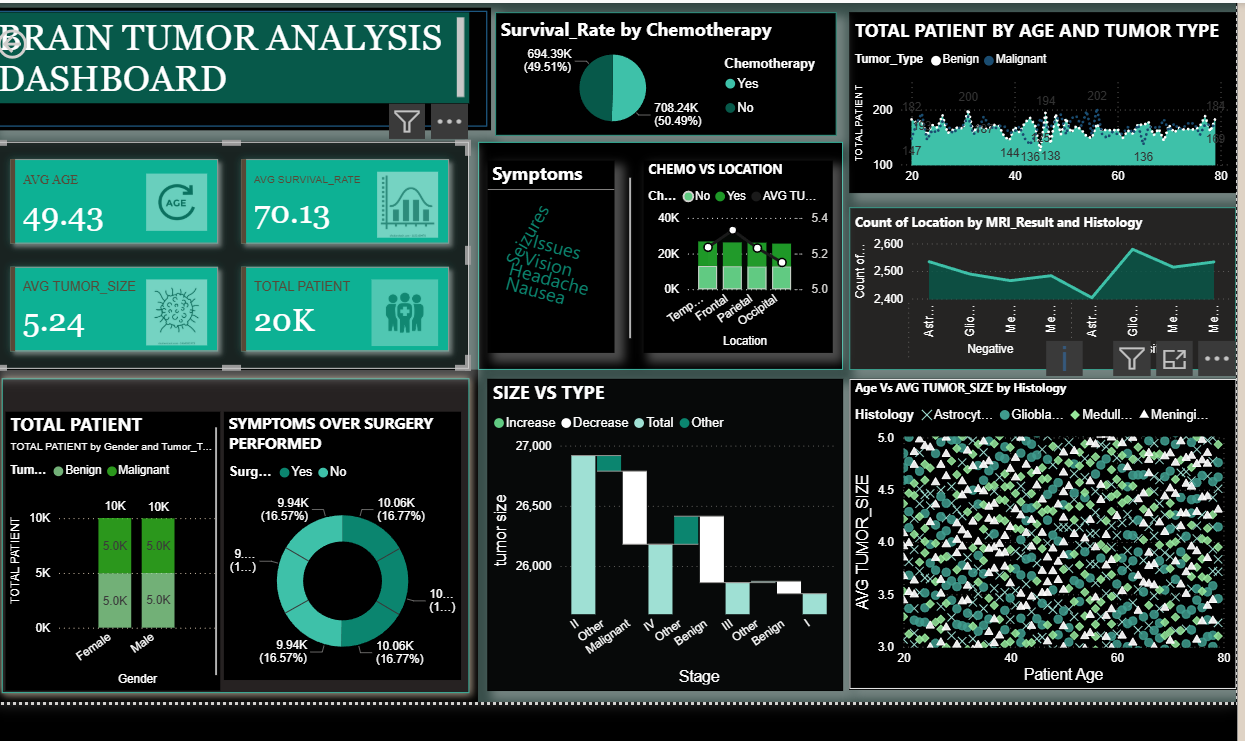

The page's visual inventory and layout, read from the dashboard file:
{"tool":"powerbi","page":{"name":"Page 1","canvas":[1280,720],"ordinal":0},"visuals":[{"type":"shape","box":[0,5,512.9,126.2],"z":0},{"type":"textbox","box":[0,10,490.6,93.6],"z":1000},{"type":"cardVisual","fields":{"Data":["brain_tumor_dataset.AVG AGE","brain_tumor_dataset.AVG SURVIVAL_RATE","brain_tumor_dataset.AVG TUMOR_SIZE","brain_tumor_dataset.TOTAL PATIENT"]},"box":[0,143,489.9,234.5],"z":2000},{"type":"shape","box":[0,377.5,499.6,342.1],"z":3000},{"type":"columnChart","title":"TOTAL PATIENT ","fields":{"Category":["brain_tumor_dataset.Gender"],"Series":["brain_tumor_dataset.Tumor_Type"],"Y":["brain_tumor_dataset.TOTAL PATIENT"]},"box":[12.2,420.9,220.9,287],"z":4000},{"type":"shape","box":[221.7,436.9,16.1,255.4],"z":5000},{"type":"actionButton","box":[0,22.6,99.1,40],"z":6000},{"type":"donutChart","title":"SYMPTOMS OVER SURGERY PERFORMED","fields":{"Category":["brain_tumor_dataset.Surgery_Performed"],"Y":["CountNonNull(brain_tumor_dataset.Symptom_1)","CountNonNull(brain_tumor_dataset.Symptom_2)","CountNonNull(brain_tumor_dataset.Symptom_3)"]},"box":[237.7,420.9,244.2,276.3],"z":7000},{"type":"lineChart","title":"TOTAL PATIENT BY AGE AND TUMOR TYPE","fields":{"Category":["brain_tumor_dataset.Age"],"Y":["brain_tumor_dataset.TOTAL PATIENT"],"Series":["brain_tumor_dataset.Tumor_Type"]},"box":[881.9,10.4,398.3,186.1],"z":8000},{"type":"waterfallChart","title":"SIZE VS TYPE","fields":{"Category":["brain_tumor_dataset.Stage"],"Y":["Sum(brain_tumor_dataset.Tumor_Size)"],"Breakdown":["brain_tumor_dataset.Tumor_Type"]},"box":[509.2,387.1,366.2,321.3],"z":9000},{"type":"areaChart","fields":{"Category":["brain_tumor_dataset.MRI_Result","brain_tumor_dataset.Histology"],"Y":["CountNonNull(brain_tumor_dataset.Location)"]},"box":[881.9,210.5,398.3,167],"z":10000},{"type":"pieChart","title":"Survival_Rate by Chemotherapy","fields":{"Y":["Sum(brain_tumor_dataset.Survival_Rate)"],"Category":["brain_tumor_dataset.Chemotherapy"]},"box":[518,10,351.4,127],"z":11000},{"type":"scatterChart","title":" Age Vs AVG TUMOR_SIZE by Histology","fields":{"Category":["brain_tumor_dataset.Tumor_Size"],"Series":["brain_tumor_dataset.Histology"],"X":["Sum(brain_tumor_dataset.Age)"],"Y":["brain_tumor_dataset.AVG TUMOR_SIZE"]},"box":[881.9,387.1,398.4,319.7],"z":12000},{"type":"shape","box":[499,142.6,375.7,234.8],"z":13000},{"type":"WordCloud1447959067750","title":"Symptoms","fields":{"Values":["CountNonNull(brain_tumor_dataset.Patient_ID)"],"Category":["brain_tumor_dataset.Symptoms"]},"box":[509.7,161.8,130.5,198.3],"z":14000},{"type":"lineStackedColumnComboChart","title":"CHEMO VS LOCATION","fields":{"Y":["Sum(brain_tumor_dataset.Tumor_Size)"],"Category":["brain_tumor_dataset.Location"],"Y2":["brain_tumor_dataset.AVG TUMOR_SIZE"],"Series":["brain_tumor_dataset.Chemotherapy"]},"box":[669.7,161.8,194.8,198.3],"z":15000},{"type":"shape","box":[647,179.2,17.4,165.2],"z":16000}]}

Visuals, with their boxes on the page's 1280x720 design canvas (x1, y1, x2, y2). These are canvas units, not pixel positions in the 1245x741 screenshot, which may show the page scaled, cropped or inside an application window:
shape: crop(0, 5, 513, 131)
textbox: crop(0, 10, 491, 104)
cardVisual - brain_tumor_dataset.AVG AGE x brain_tumor_dataset.AVG SURVIVAL_RATE: crop(0, 143, 490, 378)
shape: crop(0, 378, 500, 720)
"TOTAL PATIENT " columnChart: crop(12, 421, 233, 708)
shape: crop(222, 437, 238, 692)
actionButton: crop(0, 23, 99, 63)
"SYMPTOMS OVER SURGERY PERFORMED" donutChart: crop(238, 421, 482, 697)
"TOTAL PATIENT BY AGE AND TUMOR TYPE" lineChart: crop(882, 10, 1280, 196)
"SIZE VS TYPE" waterfallChart: crop(509, 387, 875, 708)
areaChart - brain_tumor_dataset.MRI_Result x brain_tumor_dataset.Histology: crop(882, 210, 1280, 378)
"Survival_Rate by Chemotherapy" pieChart: crop(518, 10, 869, 137)
" Age Vs AVG TUMOR_SIZE by Histology" scatterChart: crop(882, 387, 1280, 707)
shape: crop(499, 143, 875, 377)
"Symptoms" WordCloud1447959067750: crop(510, 162, 640, 360)
"CHEMO VS LOCATION" lineStackedColumnComboChart: crop(670, 162, 864, 360)
shape: crop(647, 179, 664, 344)
